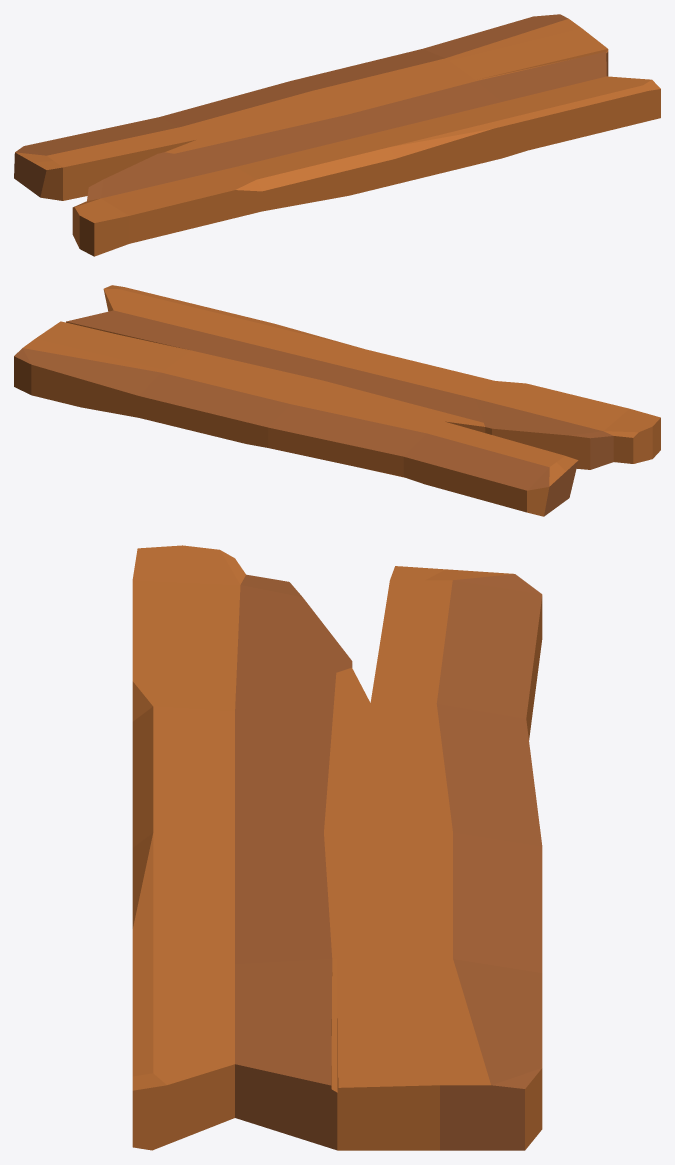
The model's file is G477woodplank.fbx.
3 renders of one model, top to bottom at view 1: azimuth 30°, elevation 25°; view 2: azimuth 150°, elevation 25°; view 3: azimuth 270°, elevation 25°, orthographic. The views are drawn at different scales.
Visible parts, largest first — view 1: Wood plank; view 2: Wood plank; view 3: Wood plank.
Boxes of the visible parts, x1,y1,x2,y2 form: Wood plank: (14, 14, 660, 256); Wood plank: (14, 285, 660, 516); Wood plank: (132, 545, 542, 1150).
Size of the model in its own units: 146 by 8.22 by 46.76.
